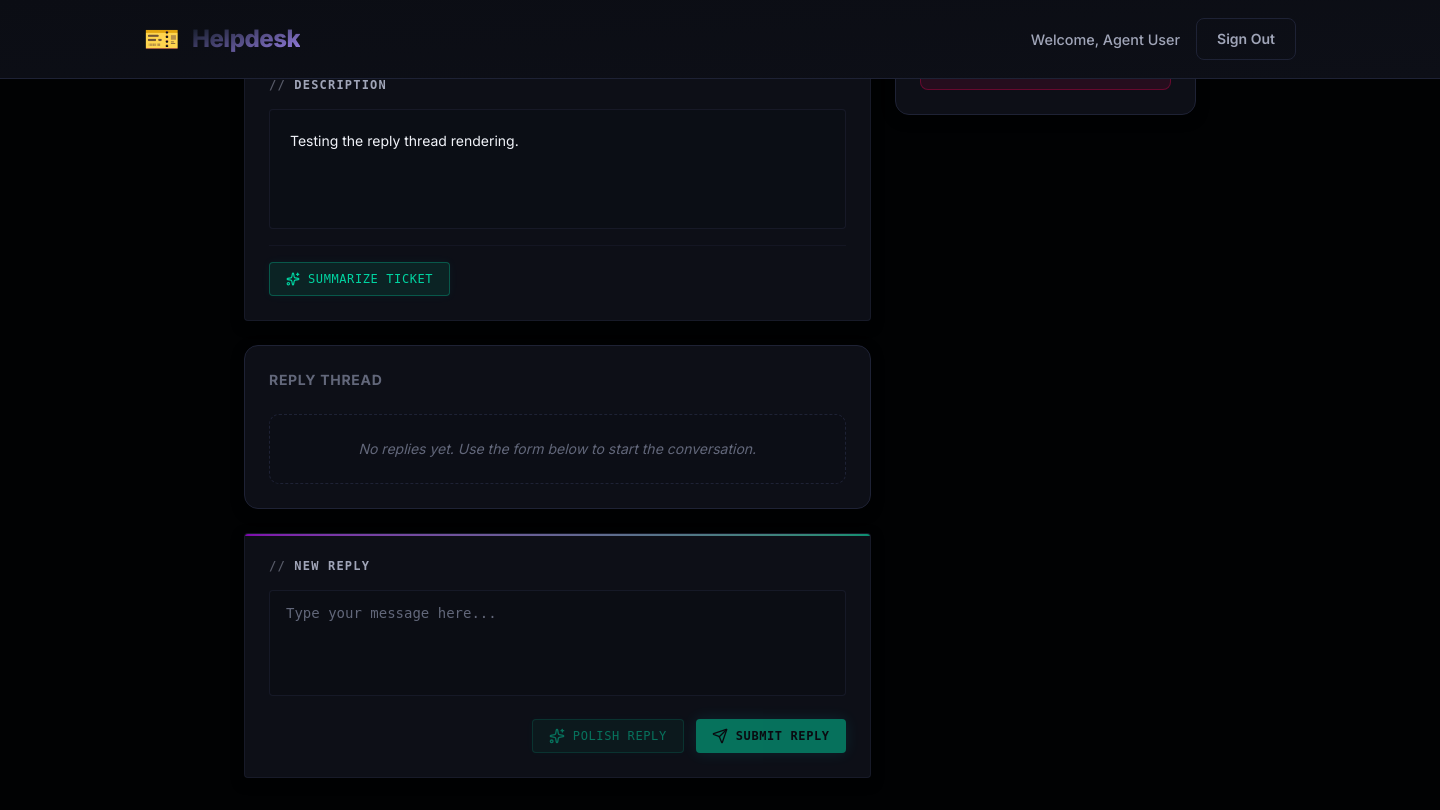
Test: TicketDetails - Reply Thread › shows error toast when reply submission fails
(page scrolled)
Type "This will fail" into the text box with placeholder "Type your message here..." at x=557, y=643, box [269, 590, 846, 696]
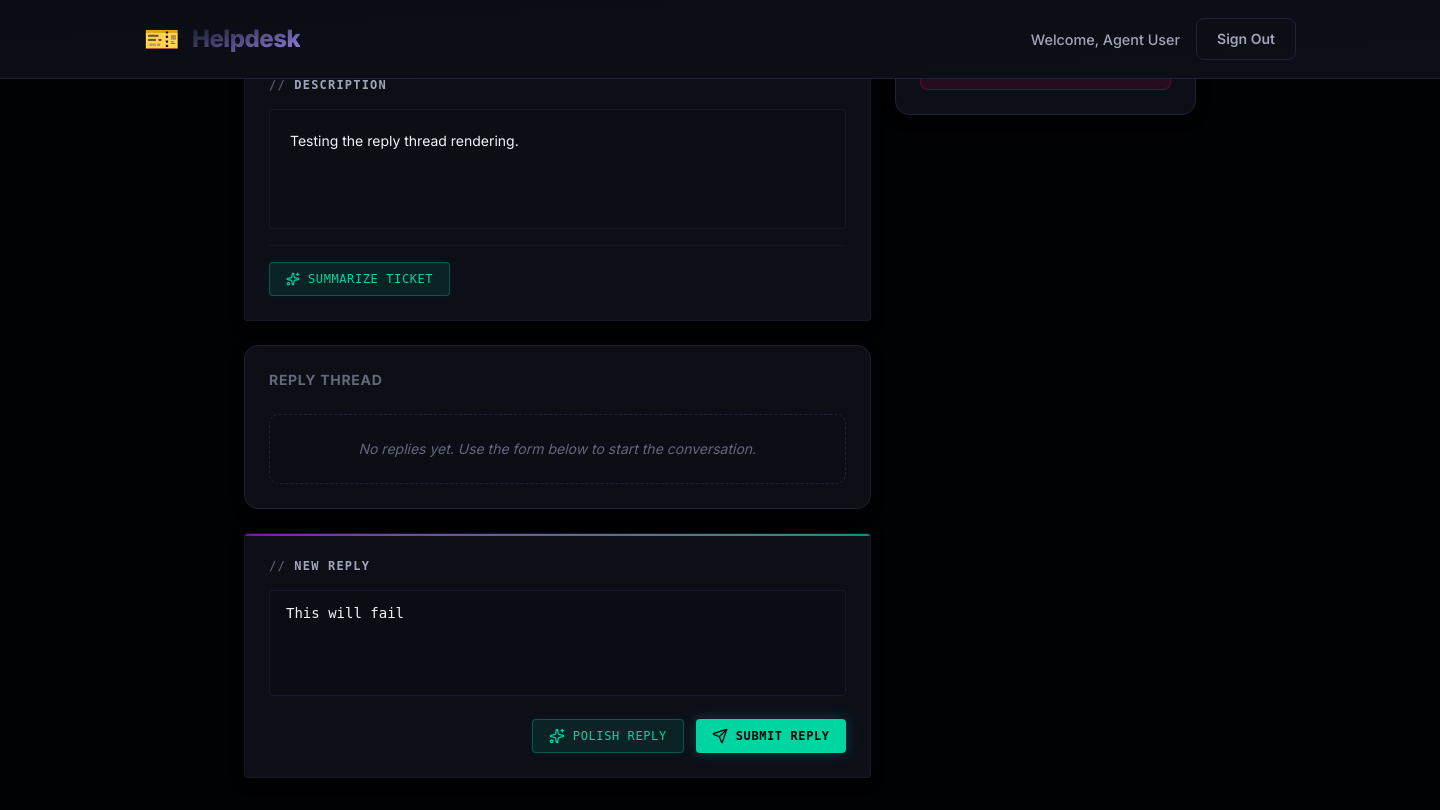
Click the button "Submit Reply" at x=771, y=736, box [696, 719, 846, 753]
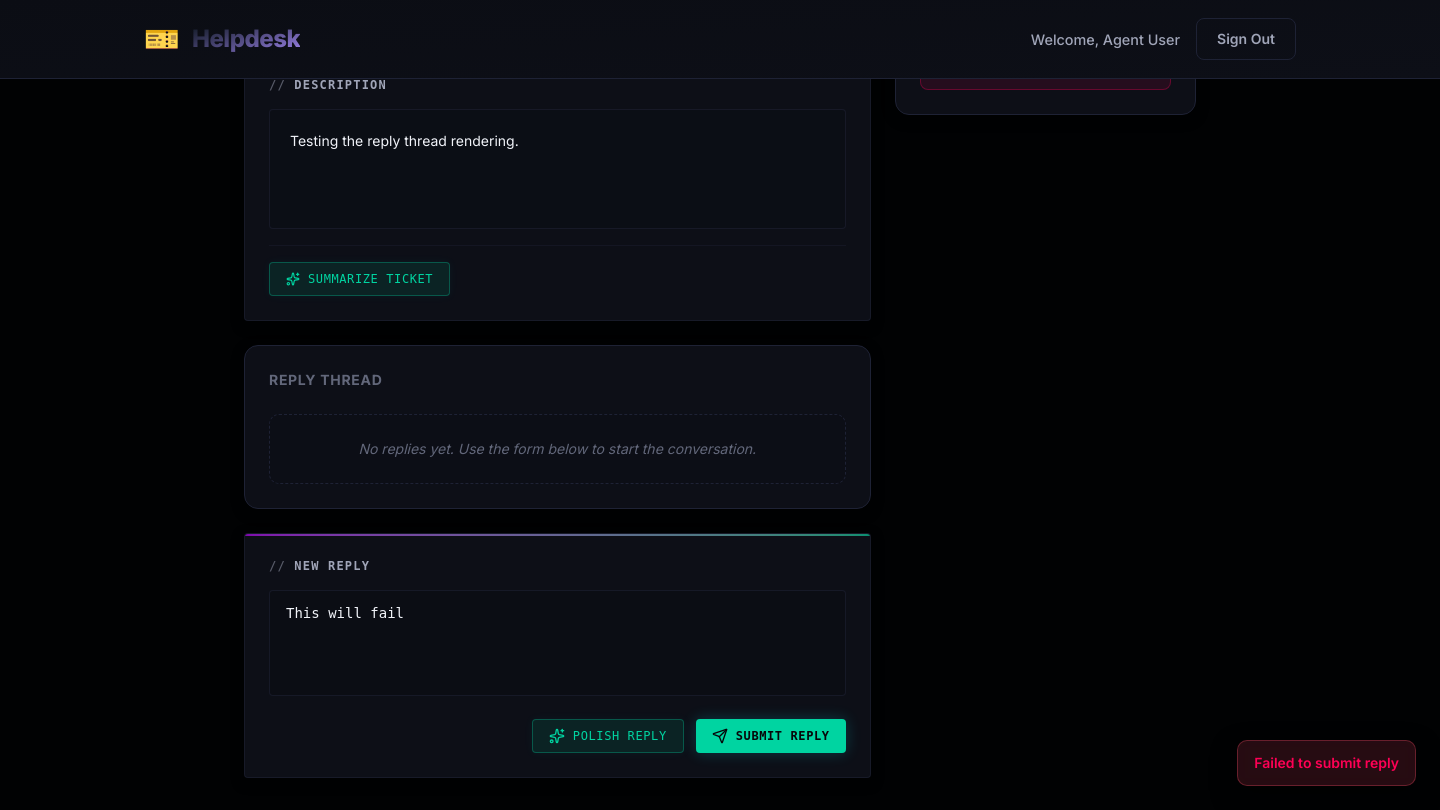
Result: the text "Failed to submit reply" is shown at [1254, 753, 1399, 773]
